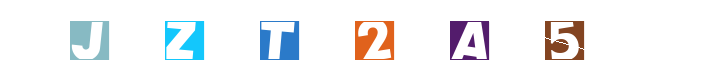2: (337, 0, 417, 80)
5: (524, 0, 604, 80)
A: (427, 0, 507, 80)
J: (97, 0, 177, 80)
T: (318, 0, 398, 80)
Z: (198, 0, 278, 80)
